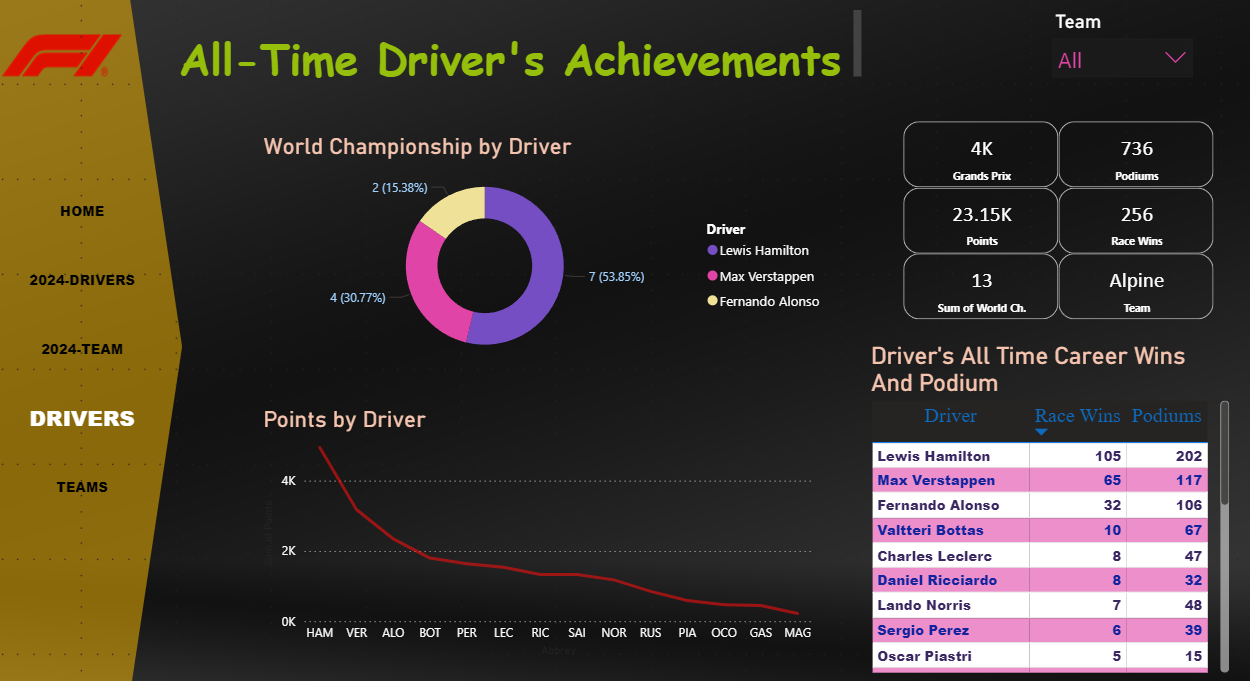

The dashboard page shown, as its layout file describes it:
{"tool":"powerbi","page":{"name":"DRIVERS","canvas":[1280,720],"ordinal":3},"visuals":[{"type":"donutChart","fields":{"Category":["f1 drivers.Driver"],"Y":["Sum(f1 drivers.World Ch.)"]},"box":[272,144,576,240],"z":0},{"type":"tableEx","title":"Driver''s All Time Career Wins And Podium","fields":{"Values":["f1 drivers.Driver","Sum(f1 drivers.Race Wins)","Sum(f1 drivers.Podiums)"]},"box":[880,352,368,336],"z":1000},{"type":"lineChart","title":"Points by Driver ","fields":{"Category":["f1 drivers.Abbrev"],"Y":["Sum(f1 drivers.Points)"]},"box":[272,416,560,256],"z":2000},{"type":"slicer","fields":{"Values":["f1 driver result.Team"]},"box":[1056,16,160,80],"z":3000},{"type":"cardVisual","fields":{"Data":["Sum(f1 drivers.Grands Prix)","Sum(f1 drivers.Podiums)","Sum(f1 drivers.Points)","Sum(f1 drivers.Race Wins)","Sum(f1 drivers.World Ch.)","Min(f1 drivers.Team)"]},"box":[912,128,320,208],"z":4000},{"type":"pageNavigator","box":[16,192,160,336],"z":5000},{"type":"textbox","box":[176,16,704,96],"z":6000}]}

Visuals, with their boxes on the page's 1280x720 design canvas (x1, y1, x2, y2). These are canvas units, not pixel positions in the 1250x681 screenshot, which may show the page scaled, cropped or inside an application window:
donutChart - f1 drivers.Driver x Sum(f1 drivers.World Ch.): bbox=[272, 144, 848, 384]
"Driver''s All Time Career Wins And Podium" tableEx: bbox=[880, 352, 1248, 688]
"Points by Driver " lineChart: bbox=[272, 416, 832, 672]
slicer - f1 driver result.Team: bbox=[1056, 16, 1216, 96]
cardVisual - Sum(f1 drivers.Grands Prix) x Sum(f1 drivers.Podiums): bbox=[912, 128, 1232, 336]
pageNavigator: bbox=[16, 192, 176, 528]
textbox: bbox=[176, 16, 880, 112]
